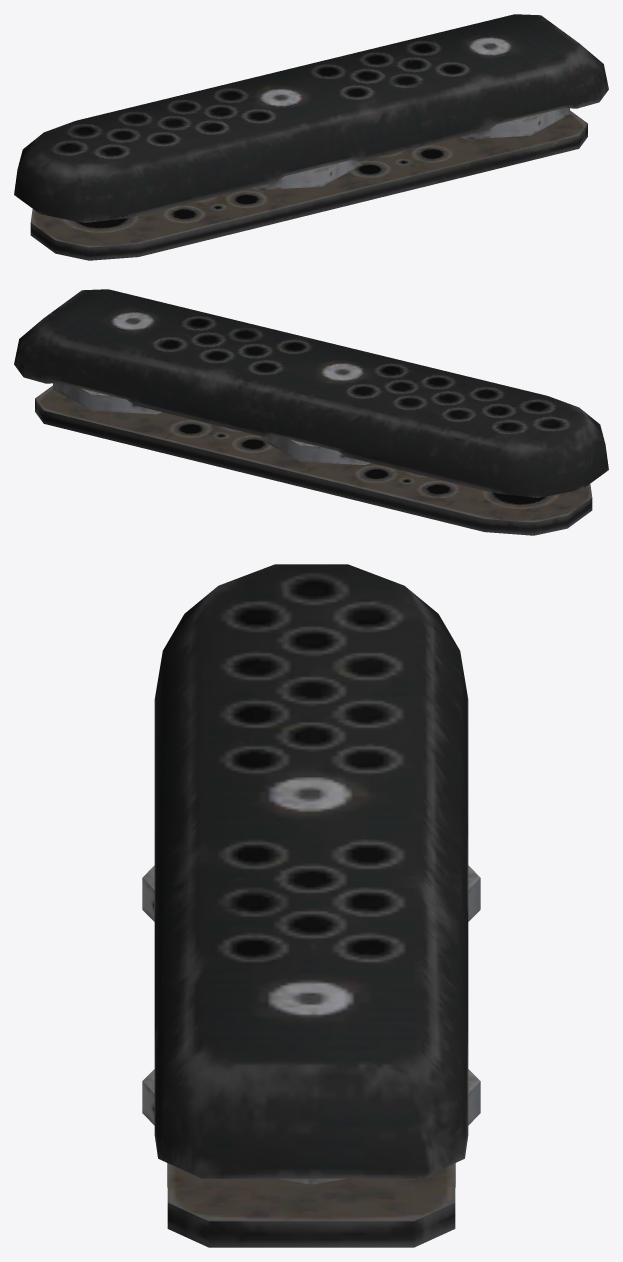
The model's file is ST_Stock_CheekPad_AWM.FBX.
3 renders of one model, top to bottom at view 1: azimuth 30°, elevation 25°; view 2: azimuth 150°, elevation 25°; view 3: azimuth 270°, elevation 25°, orthographic. The views are drawn at different scales.
Visible parts, largest first — view 1: ST_Stock_CheekPad_AWM; view 2: ST_Stock_CheekPad_AWM; view 3: ST_Stock_CheekPad_AWM.
Part boxes in pixels (x1,y1,x2,y2): ST_Stock_CheekPad_AWM: (14,14,608,260); ST_Stock_CheekPad_AWM: (14,289,608,535); ST_Stock_CheekPad_AWM: (142,564,480,1247).
Size of the model in its own units: 13.23 by 2.03 by 3.5.
Materials: 1 (1 with a texture image).
